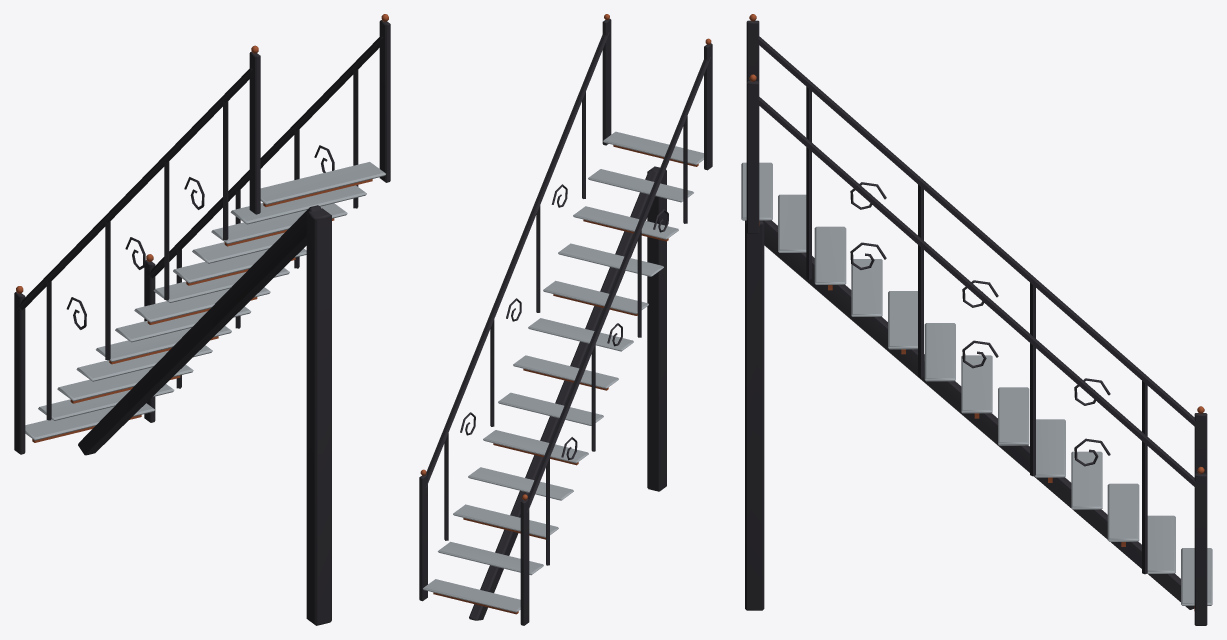
The model's file is qb_stairs_metal.glb.
3 renders of one model, left to right at view 1: azimuth 30°, elevation 25°; view 2: azimuth 150°, elevation 25°; view 3: azimuth 270°, elevation 25°, orthographic. The views are drawn at different scales.
Parts seen in each view (by area): view 1: qb_stairs_metal; view 2: qb_stairs_metal; view 3: qb_stairs_metal.
Boxes of the visible parts, bbox=[...] form: qb_stairs_metal: bbox=[14, 14, 390, 625]; qb_stairs_metal: bbox=[419, 14, 712, 625]; qb_stairs_metal: bbox=[741, 14, 1212, 625].
Bounding box in the file's own units: 0.9468 × 3.91 × 2.97.
